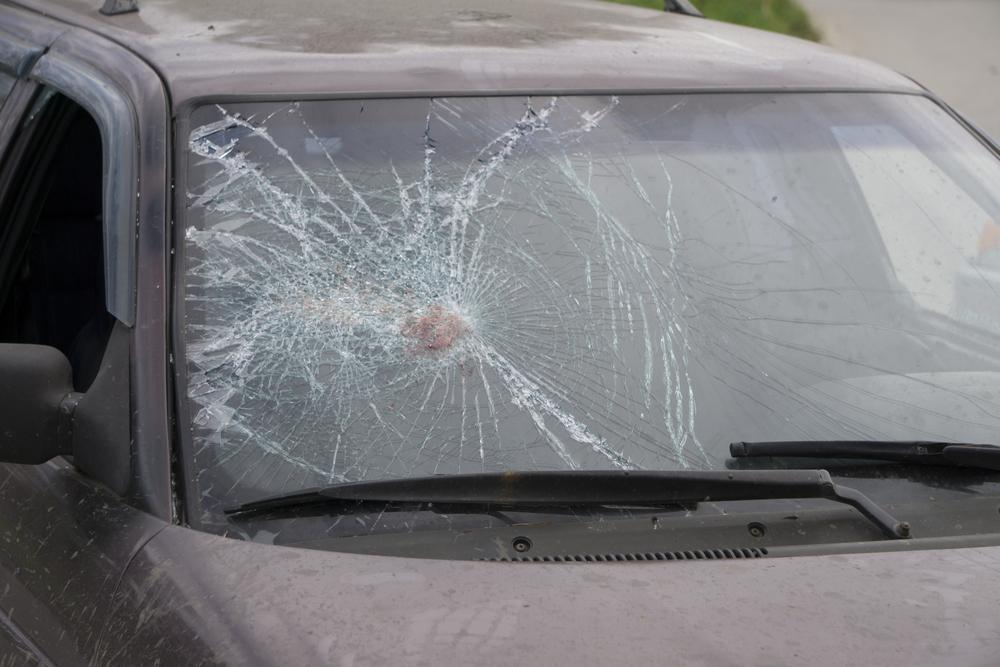glass shatter: (184, 93, 1000, 543)
